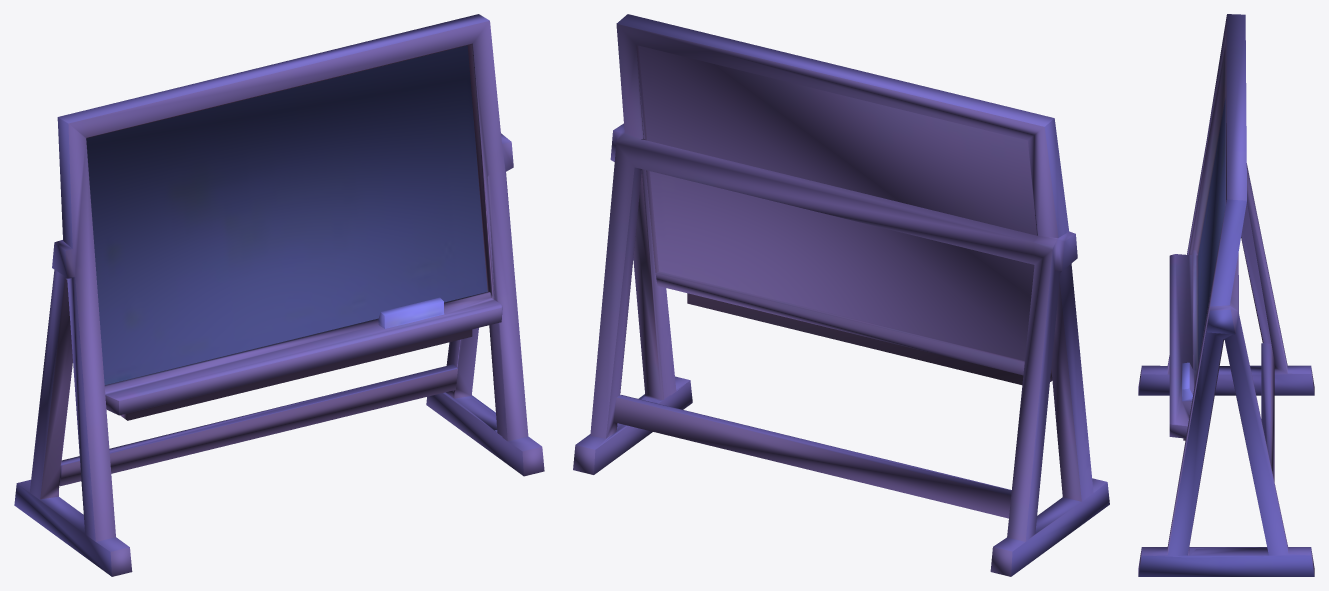
File: model.progressive.glb
3 renders of one model, left to right at view 1: azimuth 30°, elevation 25°; view 2: azimuth 150°, elevation 25°; view 3: azimuth 270°, elevation 25°, orthographic. The views are drawn at different scales.
Parts seen in each view (by area): view 1: texture_pbr_20250901; view 2: texture_pbr_20250901; view 3: texture_pbr_20250901.
Part boxes in pixels (<box>): texture_pbr_20250901: <box>14,14,544,576</box>; texture_pbr_20250901: <box>573,14,1109,576</box>; texture_pbr_20250901: <box>1138,14,1314,576</box>.
Bounding box in the file's own units: 1.89 × 1.69 × 0.7187.
1 material, 1 textured.
